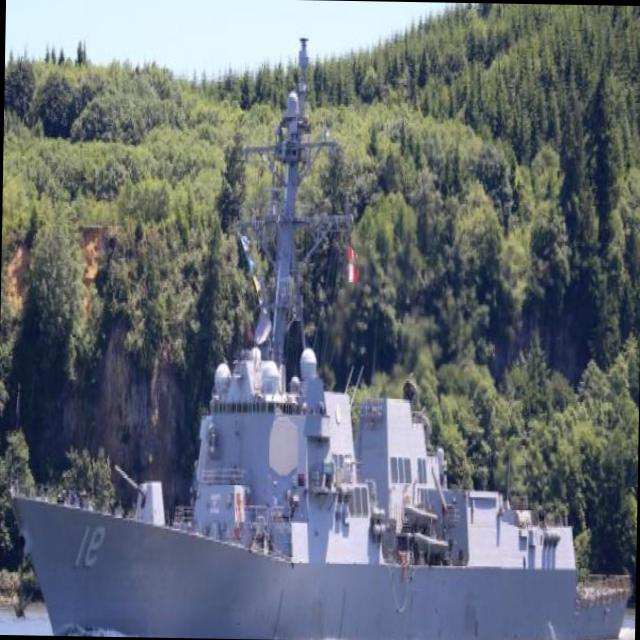Military: (15, 40, 628, 640)
